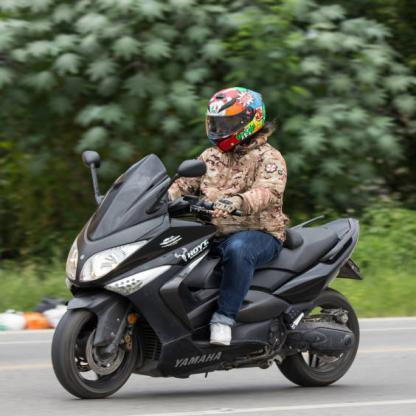Motorcycle: (47, 149, 371, 397)
